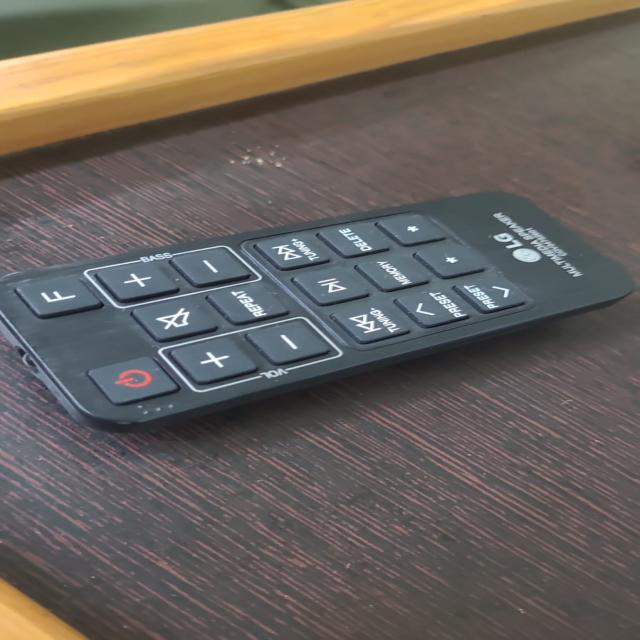Others: (1, 175, 640, 448)
